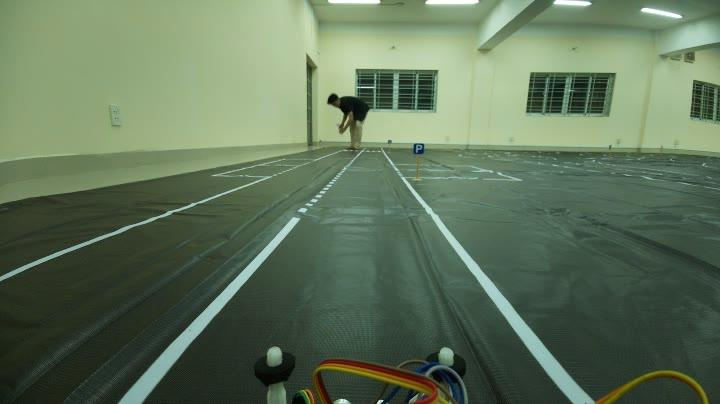parking: (410, 140, 426, 161)
